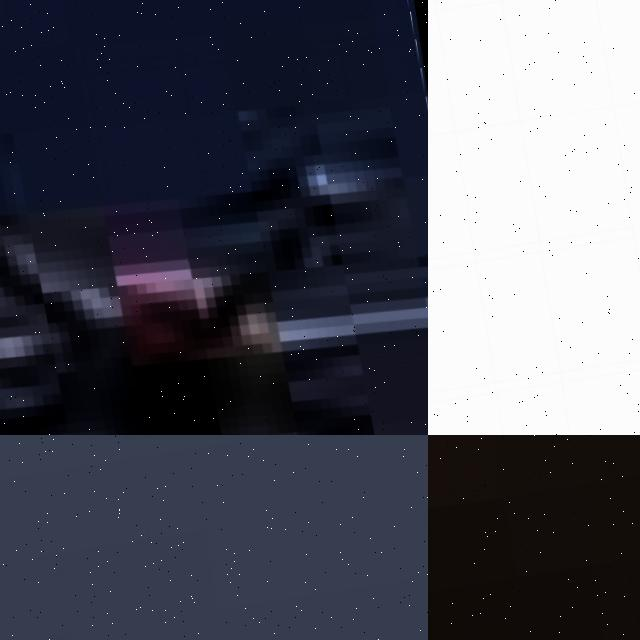drone: (0, 0, 428, 435)
